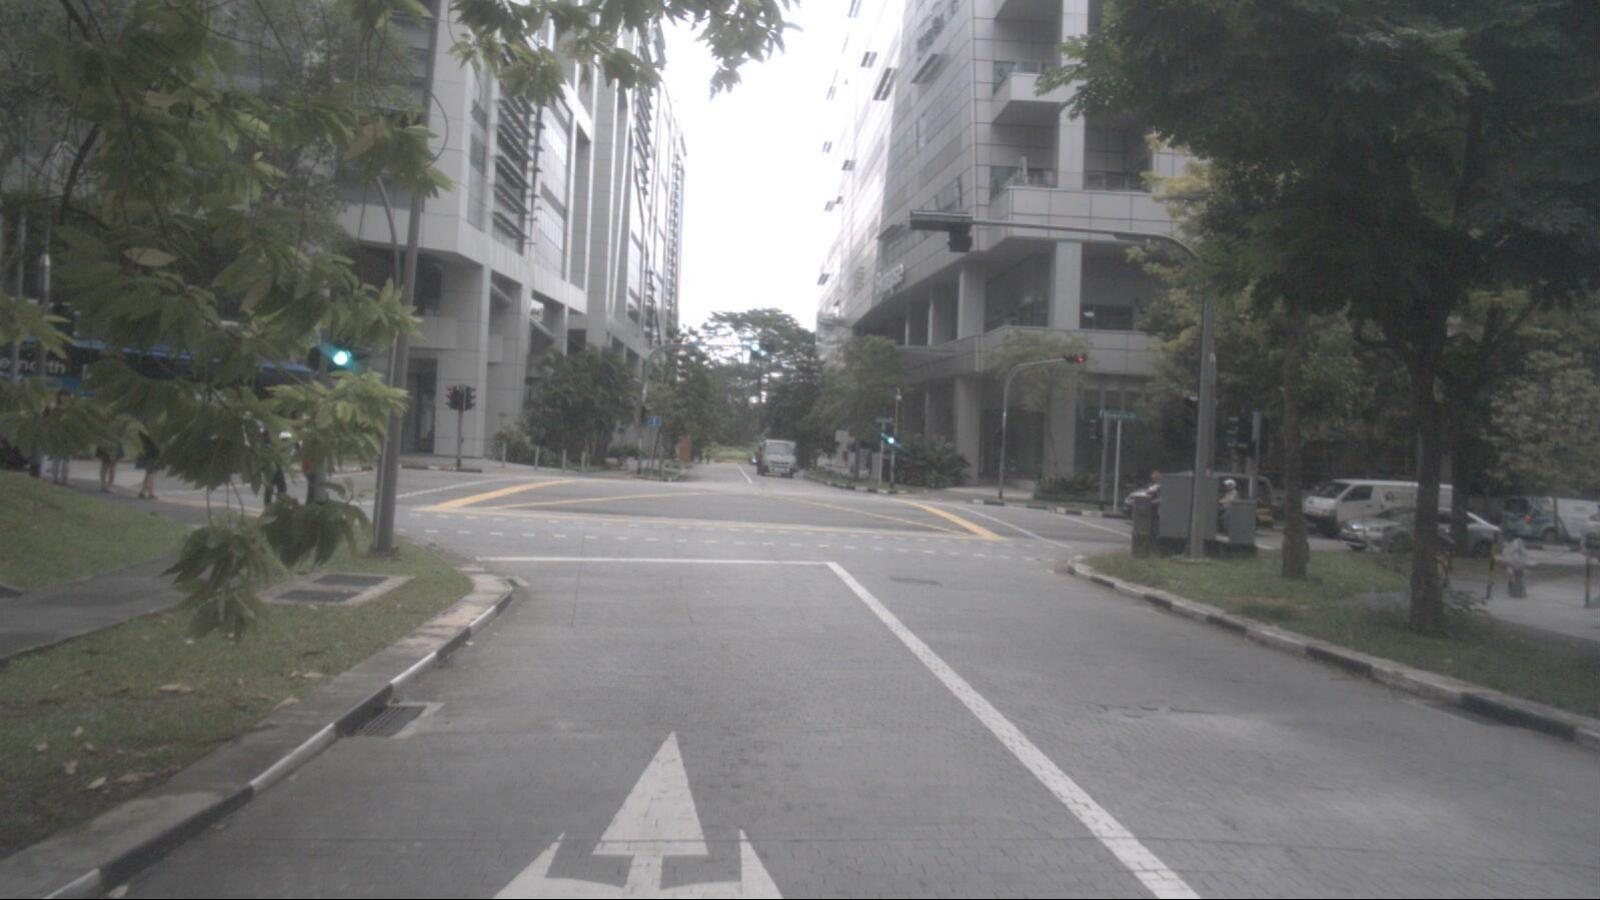human.pedestrian.adult-pedestrian.moving: (50, 388, 77, 489)
human.pedestrian.adult-pedestrian.standing: (134, 404, 167, 501), (259, 420, 287, 525), (95, 397, 124, 493)
vehicle.motorcycle-cycle.with_rider: (1203, 479, 1260, 536)
